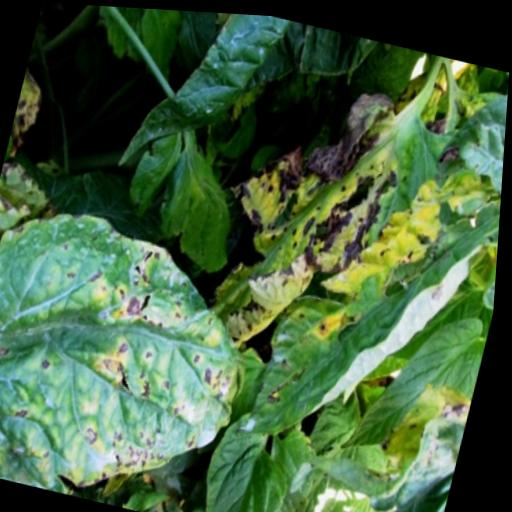Early Blight: (244, 137, 505, 478), (0, 189, 274, 512), (204, 53, 457, 375)
Healthy: (199, 422, 302, 512)
